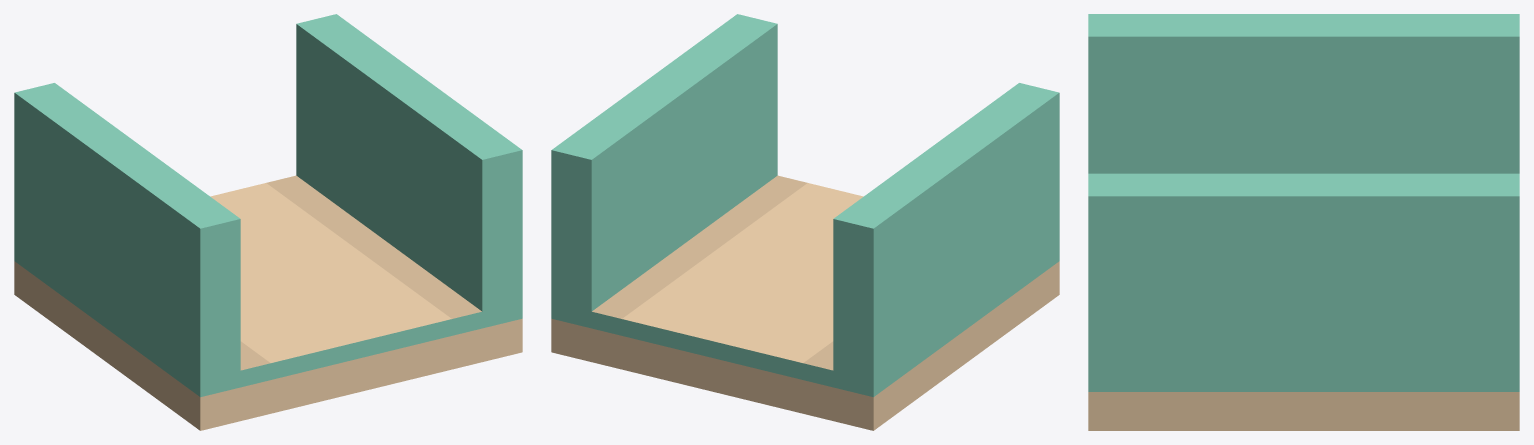
File: DoubleBarrier.fbx
3 views of the same model, side by side, from view 1: azimuth 30°, elevation 25°; view 2: azimuth 150°, elevation 25°; view 3: azimuth 270°, elevation 25° (orthographic). The views are drawn at different scales.
Visible parts, largest first — view 1: tile_straight; view 2: tile_straight; view 3: tile_straight.
Boxes of the visible parts, x1,y1,x2,y2 form: tile_straight: (14, 14, 522, 430); tile_straight: (551, 14, 1059, 430); tile_straight: (1088, 14, 1519, 430).
Bounding box in the file's own units: 100 × 60 × 100.
